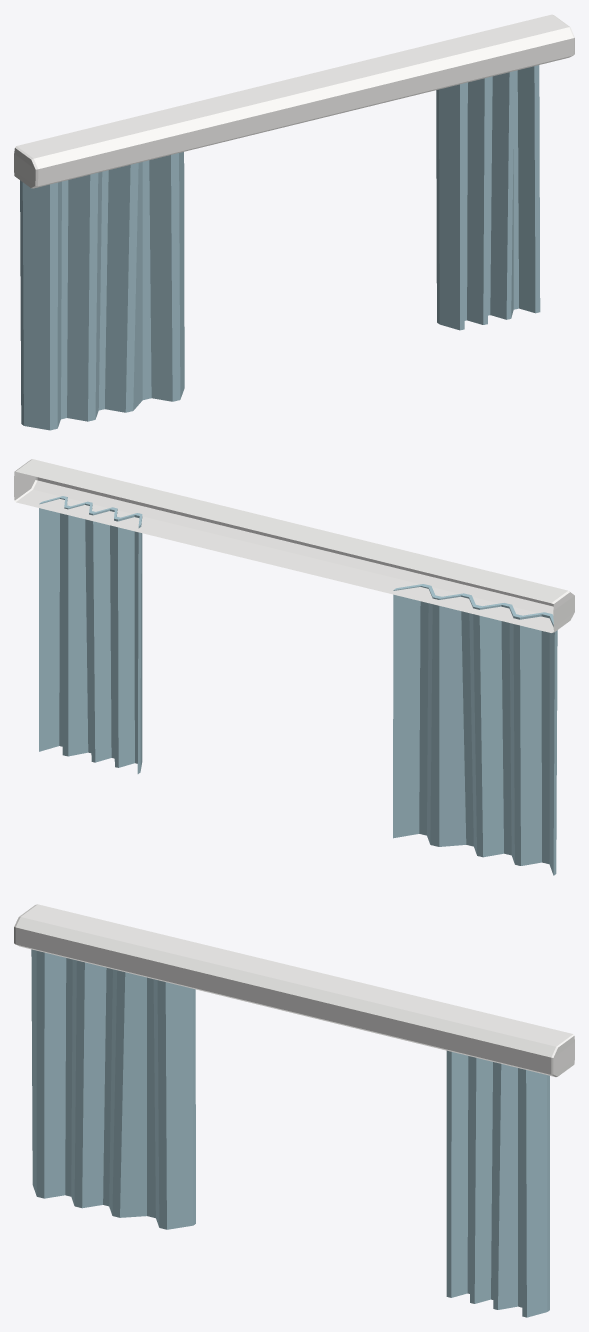
The model's file is Curtains_1.fbx.
3 views of the same model, one above another, from view 1: azimuth 30°, elevation 25°; view 2: azimuth 150°, elevation 25°; view 3: azimuth 330°, elevation 25° (orthographic).
Visible parts, largest first — view 1: Curtains_1; view 2: Curtains_1; view 3: Curtains_1.
Part boxes in pixels (<box>): Curtains_1: <box>14,14,574,430</box>; Curtains_1: <box>14,459,574,875</box>; Curtains_1: <box>14,904,574,1317</box>.
Bounding box in the file's own units: 370 × 26.2 × 182.
